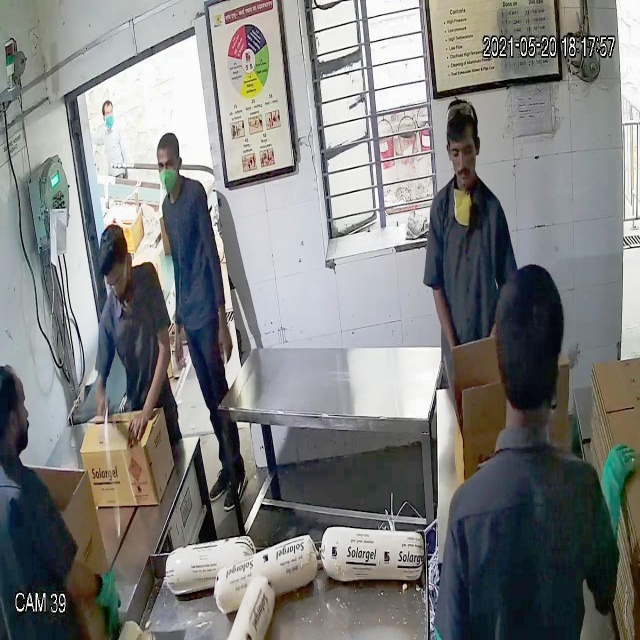Sin_gafas: (447, 140, 482, 164), (155, 153, 180, 180)
